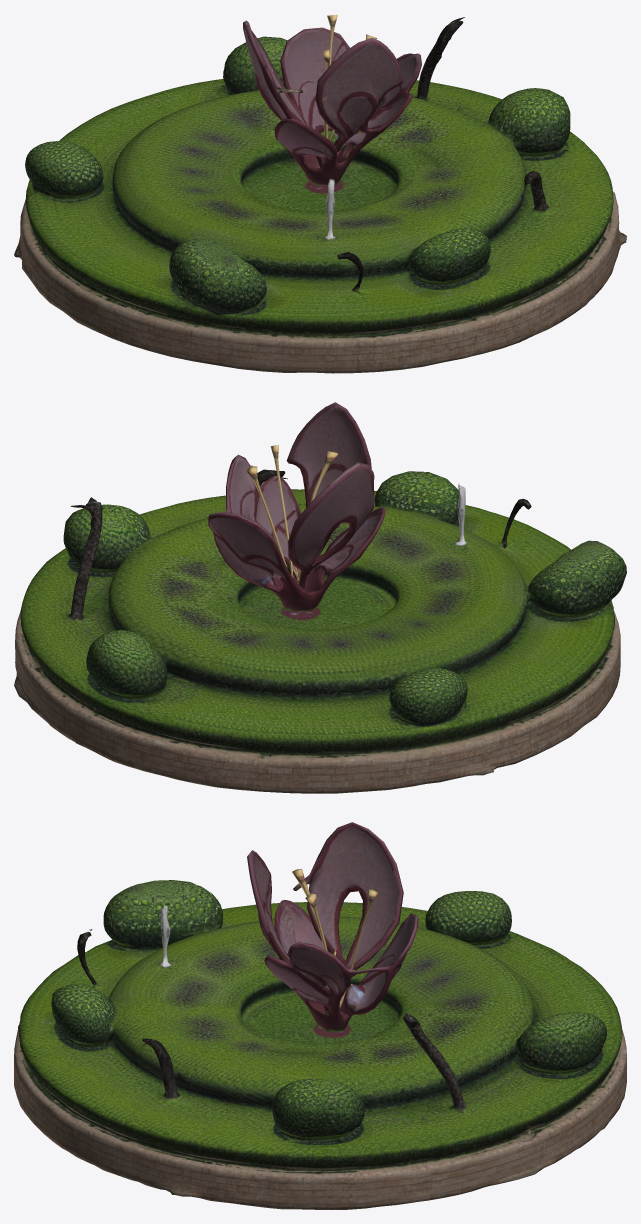
File: flower-sculpture.glb
3 views of the same model, one above another, from view 1: azimuth 30°, elevation 25°; view 2: azimuth 150°, elevation 25°; view 3: azimuth 270°, elevation 25° (orthographic).
Parts seen in each view (by area): view 1: tripo_node_8965f13a-846e-45fd-b63f-3e983d251972; view 2: tripo_node_8965f13a-846e-45fd-b63f-3e983d251972; view 3: tripo_node_8965f13a-846e-45fd-b63f-3e983d251972.
Part boxes in pixels (x1,y1,x2,y2): tripo_node_8965f13a-846e-45fd-b63f-3e983d251972: (14, 14, 626, 373); tripo_node_8965f13a-846e-45fd-b63f-3e983d251972: (14, 402, 626, 793); tripo_node_8965f13a-846e-45fd-b63f-3e983d251972: (14, 822, 626, 1209).
Size of the model in its own units: 0.9733 by 0.4143 by 0.9742.
1 material, 1 textured.
